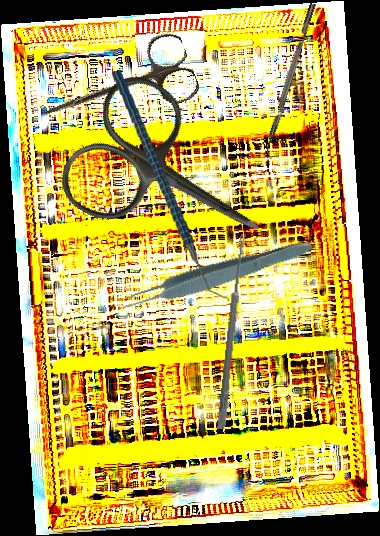Chopper: (111, 63, 231, 309), (260, 2, 324, 161)
Iris Scissors: (49, 64, 297, 294), (30, 28, 203, 151)
Surgical Spoon: (217, 233, 247, 430)
Tissue Forceps: (115, 233, 316, 316)
